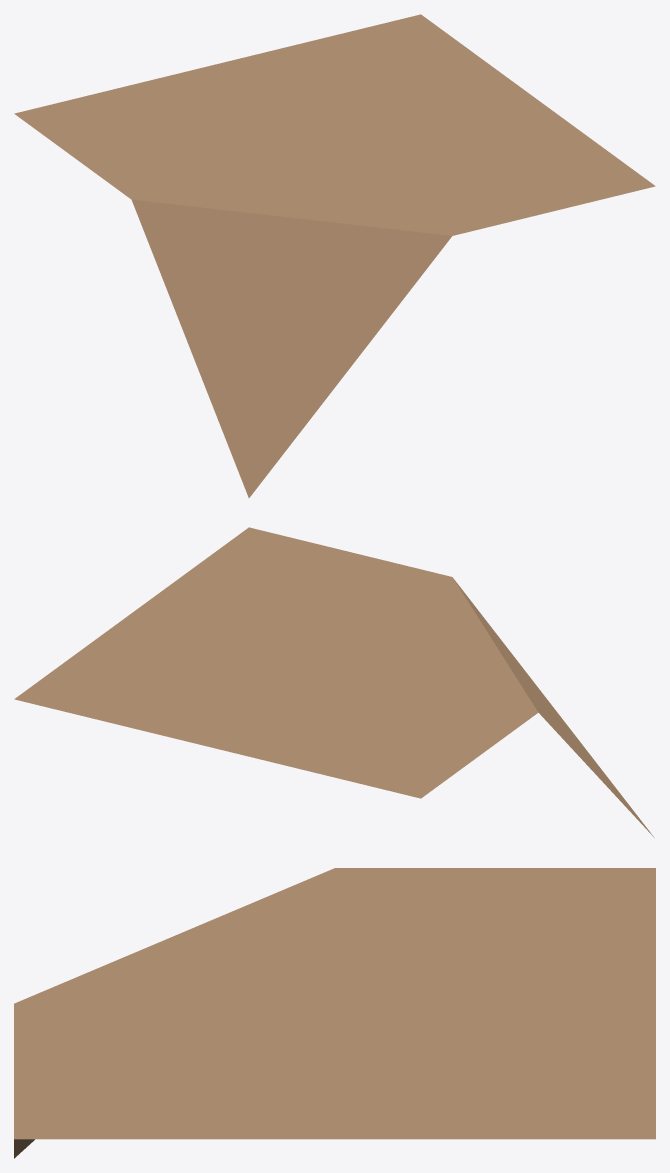
File: terrain_sideCornerInner.fbx
3 renders of one model, top to bottom at view 1: azimuth 30°, elevation 25°; view 2: azimuth 150°, elevation 25°; view 3: azimuth 270°, elevation 25°, orthographic. The views are drawn at different scales.
Parts seen in each view (by area): view 1: terrain_sideCornerInner; view 2: terrain_sideCornerInner; view 3: terrain_sideCornerInner.
Part boxes in pixels (left/top/right/bottom): terrain_sideCornerInner: left=14, top=14, right=655, bottom=497; terrain_sideCornerInner: left=14, top=527, right=654, bottom=837; terrain_sideCornerInner: left=14, top=868, right=655, bottom=1158.
Size of the model in its own units: 100 by 50 by 100.
